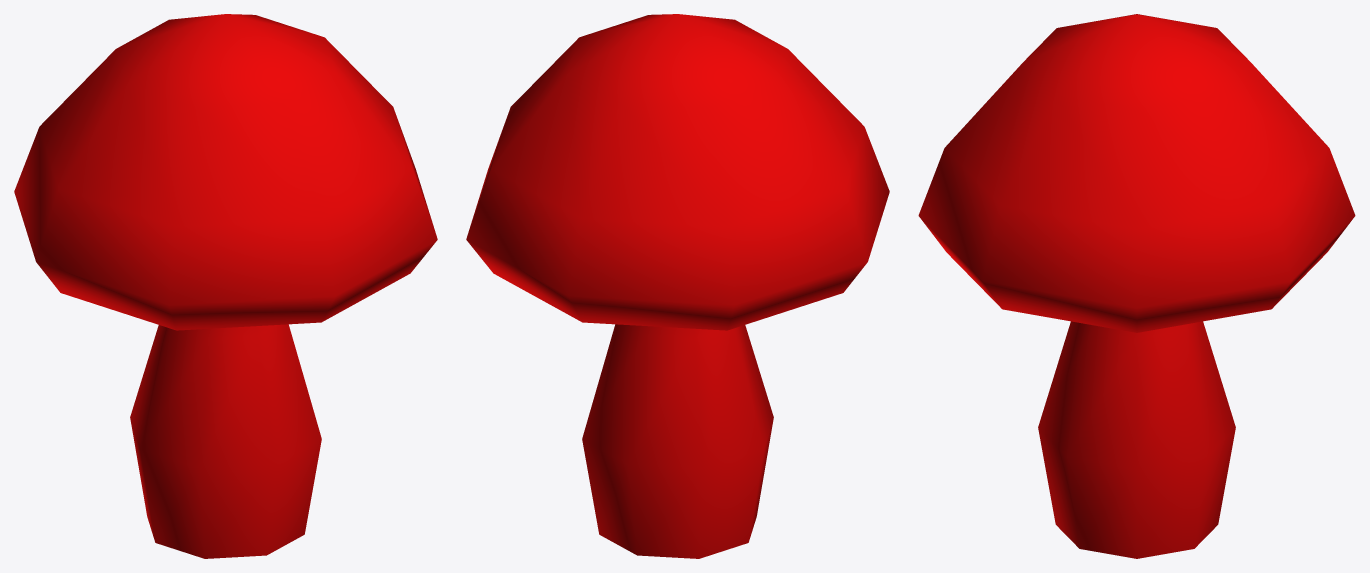
Rendered from Mushroom01.fbx.
3 views of the same model, side by side, from view 1: azimuth 30°, elevation 25°; view 2: azimuth 150°, elevation 25°; view 3: azimuth 270°, elevation 25° (orthographic).
Visible parts, largest first — view 1: Mushroom01; view 2: Mushroom01; view 3: Mushroom01.
Boxes of the visible parts, x1=… form: Mushroom01: x1=14, y1=14, x2=437, y2=558; Mushroom01: x1=466, y1=14, x2=889, y2=558; Mushroom01: x1=918, y1=14, x2=1355, y2=558.
Bounding box in the file's own units: 0.2454 × 0.3159 × 0.2454.
